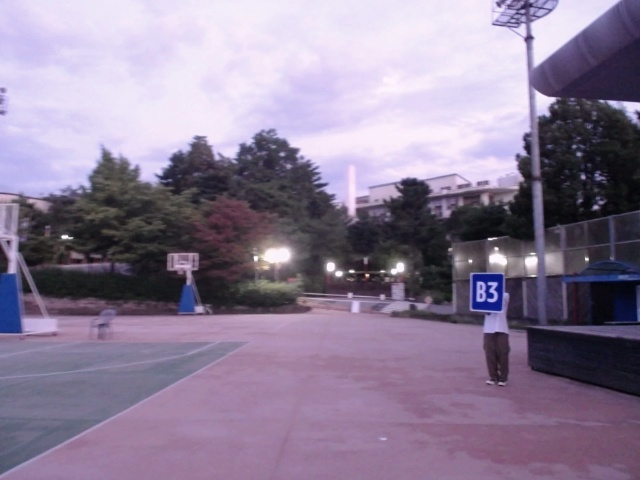delivery_b3: (470, 272, 506, 314)
